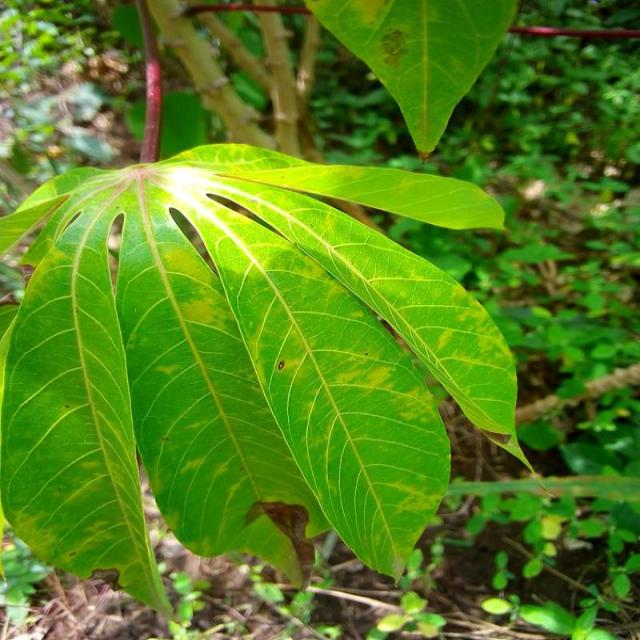cassava leaf: (1, 143, 528, 613), (305, 0, 520, 160)
